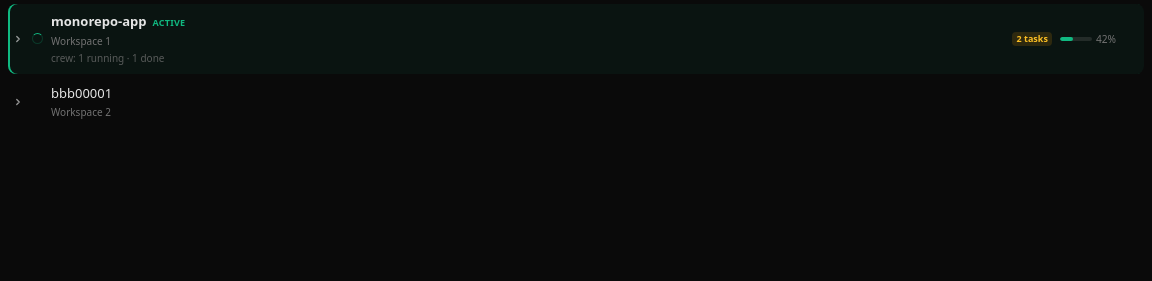
Test: CaptainsList expansion (crew + subagent tree) › renders every delivery state separately for a durable agent
This screenshot has width=1152, height=281.
Click the button named "Expand crew and subagents".
click(18, 39)  # box 8,27 -> 28,51
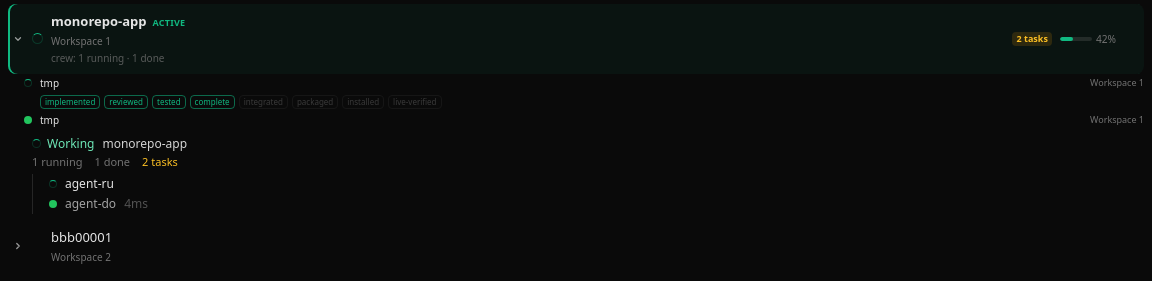
Expected: the text titled "complete: yes" is shown, 190,94 -> 235,108
Expected: the text titled "integrated: no" is shown, 239,94 -> 288,108
Expected: the text titled "installed: no" is shown, 342,94 -> 384,108
